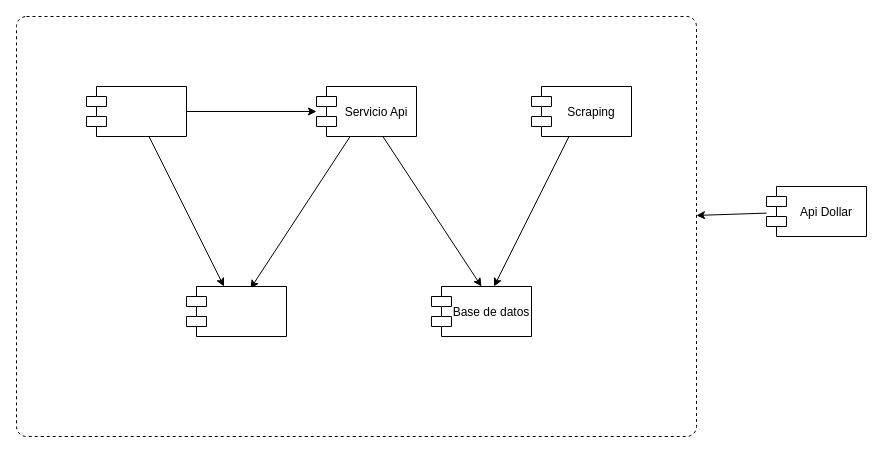
Some shapes in this 883 by 453 pixel diagram are drawn without their labels. The centre of each missing label's shape, as x and y in pixels:
"Cache" belongs at point (236, 311).
"Carrito" belongs at point (136, 111).
